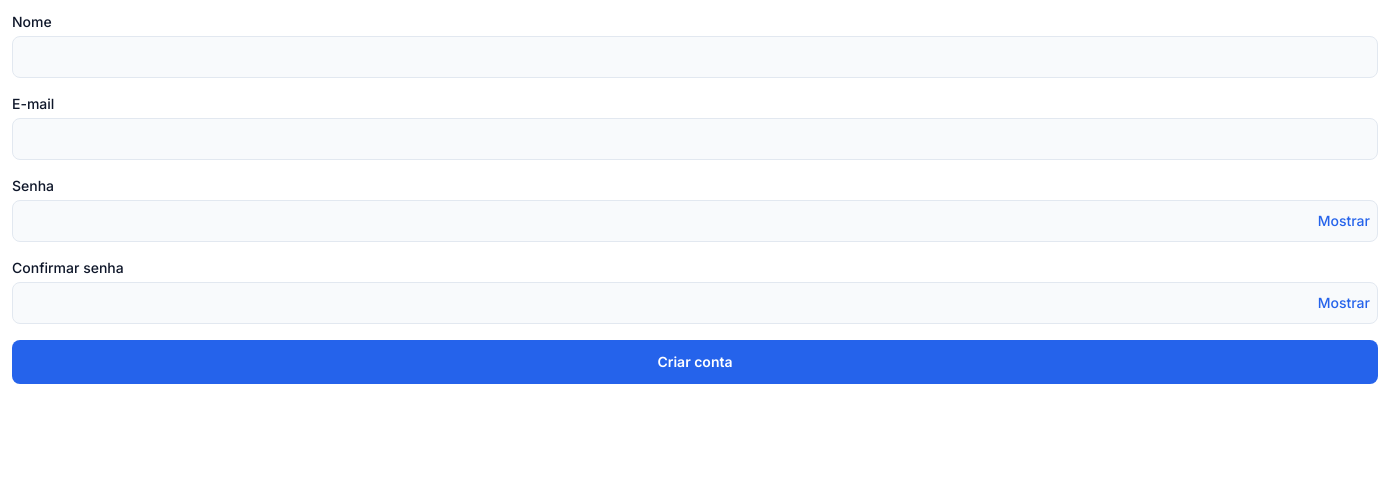
Scenario: FormularioCadastro › EMAIL_JA_CADASTRADO mostra a mensagem traduzida inline
Type "Samuel De Marco" into the field labelled "Nome" at (695, 57), box [12,36,1378,78]
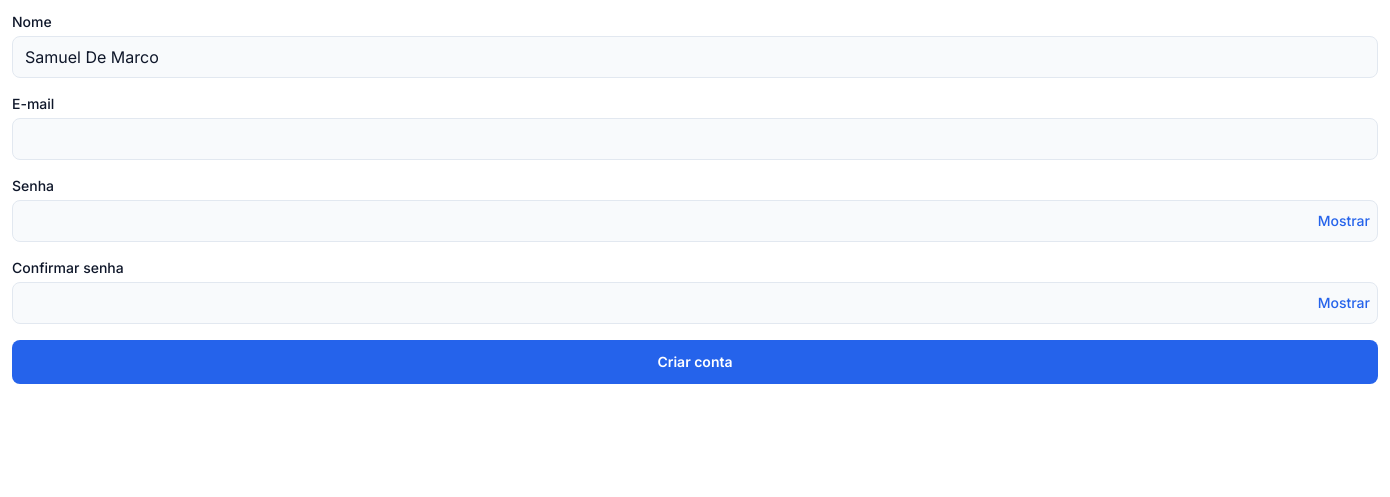
Type "samuel@exemplo.com" into the field labelled "E-mail" at (695, 139), box [12,118,1378,160]
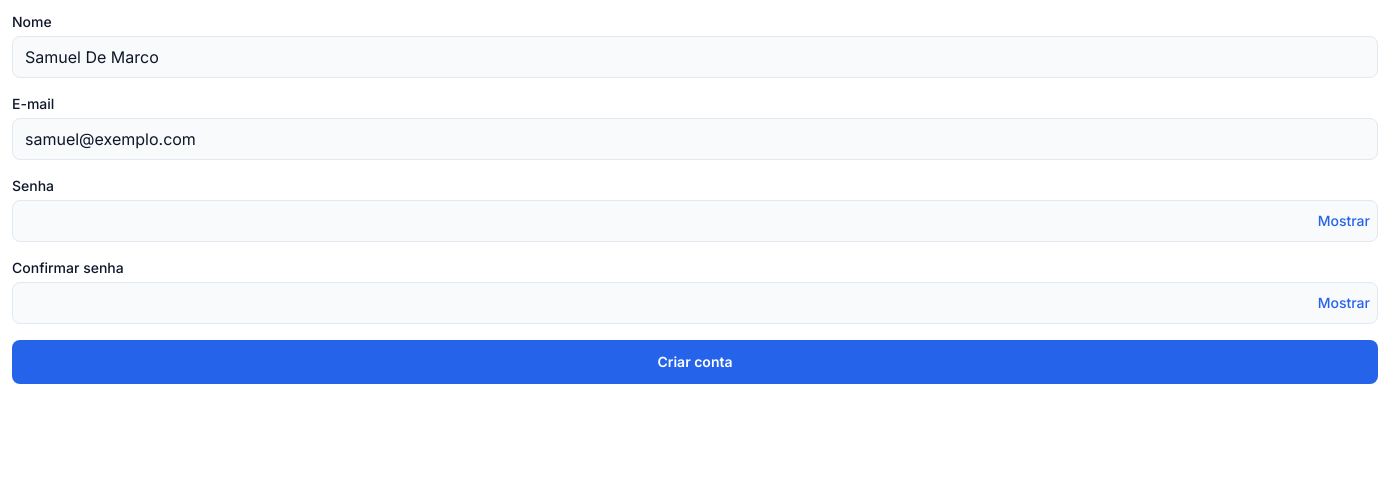
Type "SenhaForte@2026" into the password field labelled "Senha" at (695, 221), box [12,200,1378,242]
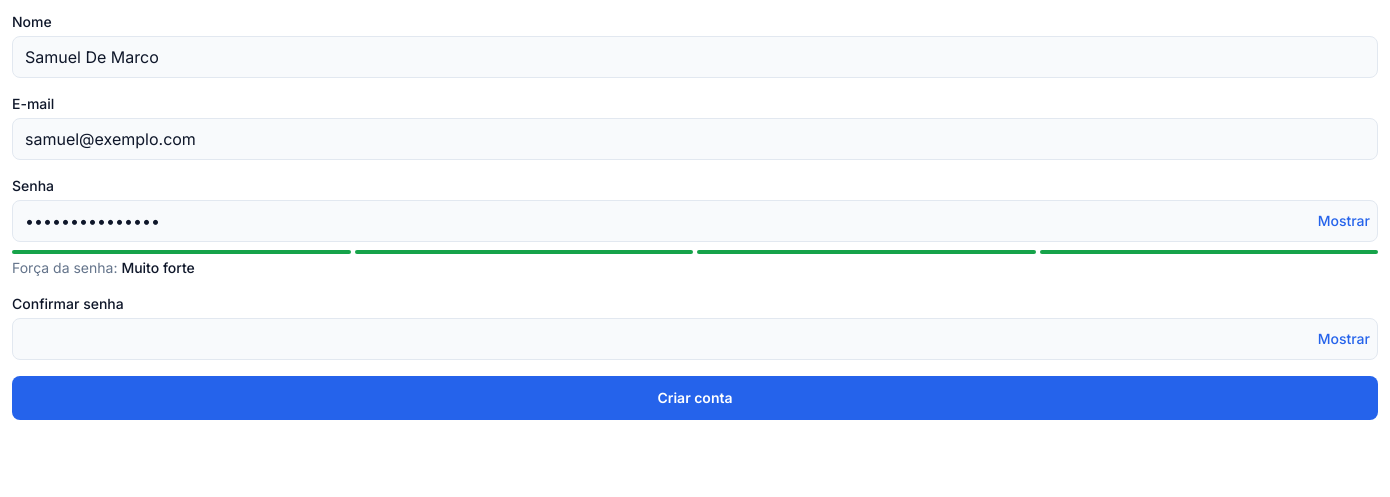
Type "SenhaForte@2026" into the password field labelled "Confirmar senha" at (695, 339), box [12,318,1378,360]
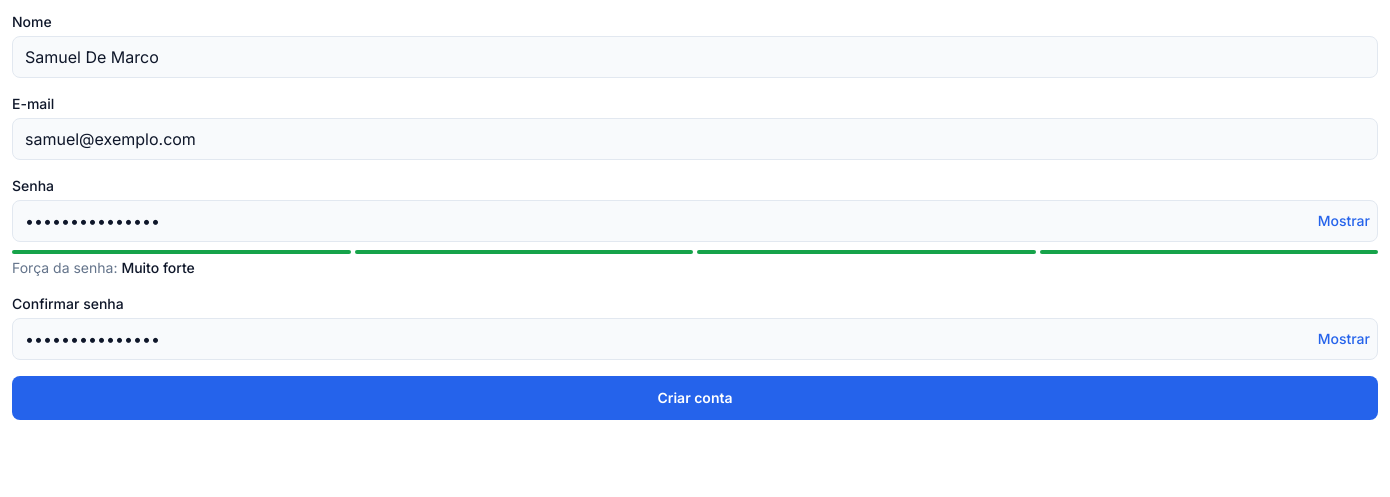
Click the button "Criar conta" at (695, 398), box [12,376,1378,420]
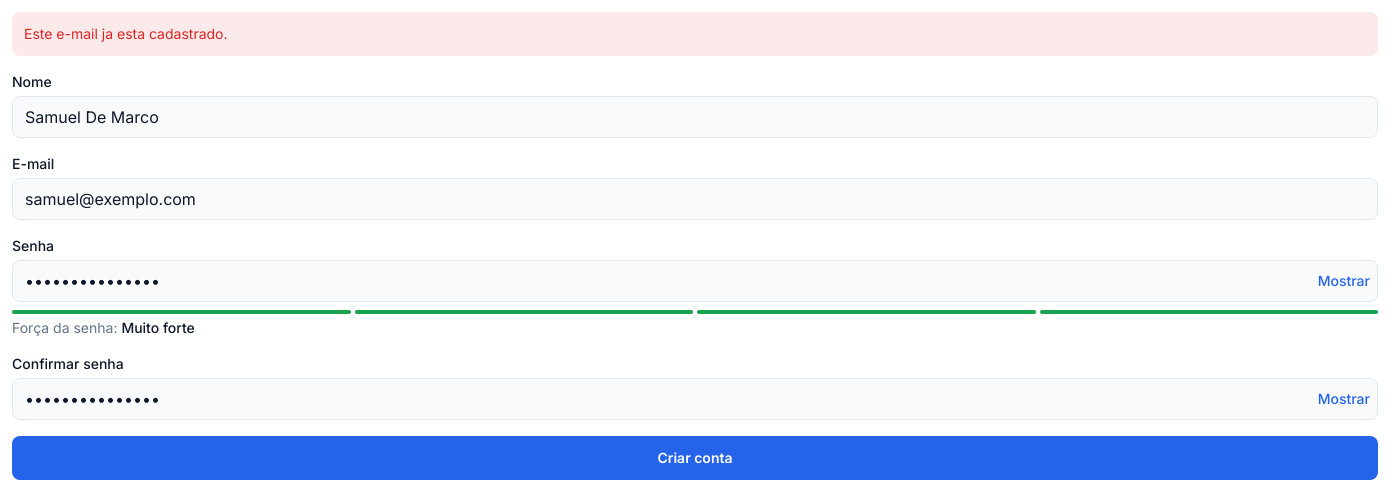
Now the text "Este e-mail ja esta cadastrado." is shown, box [12,12,1378,56]
